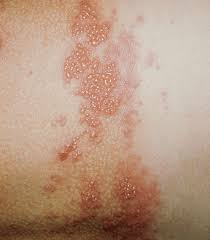herpes: (60, 52, 148, 217)
